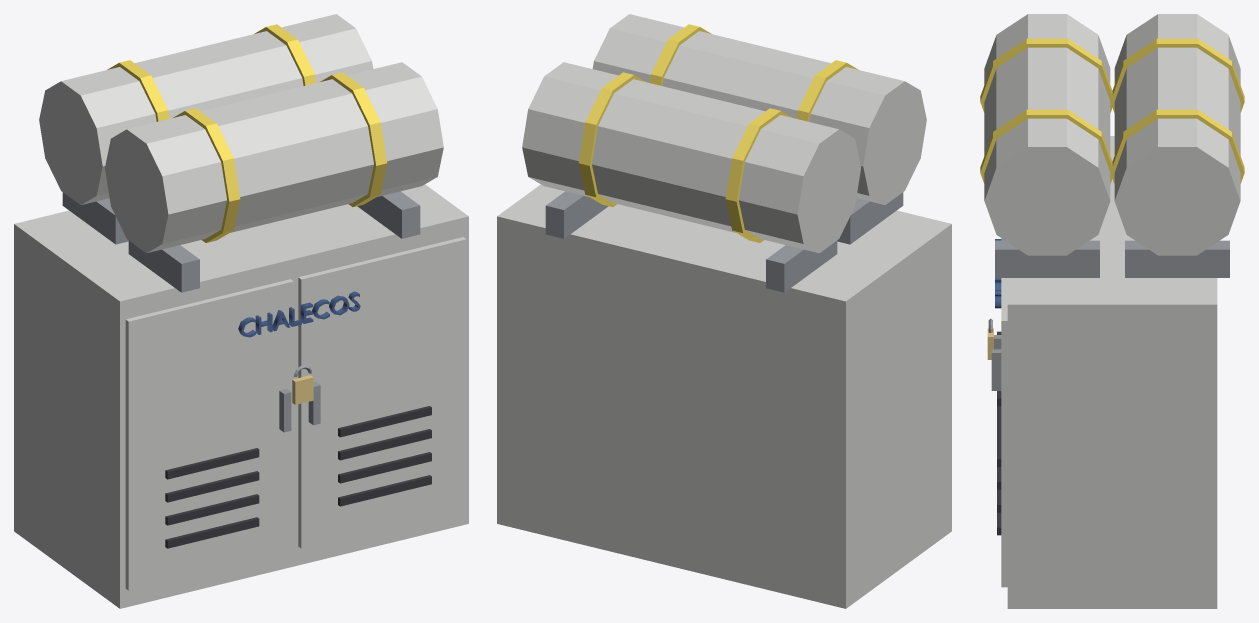
The model's file is CR_Taquilla.fbx.
3 renders of one model, left to right at view 1: azimuth 30°, elevation 25°; view 2: azimuth 150°, elevation 25°; view 3: azimuth 270°, elevation 25°, orthographic.
Visible parts, largest first — view 1: CR_Taquilla; view 2: CR_Taquilla; view 3: CR_Taquilla.
Part boxes in pixels (x1,y1,x2,y2): CR_Taquilla: [14, 14, 468, 608]; CR_Taquilla: [497, 14, 951, 608]; CR_Taquilla: [980, 14, 1244, 608].
Size of the model in its own units: 1.9 by 2.35 by 1.26.
